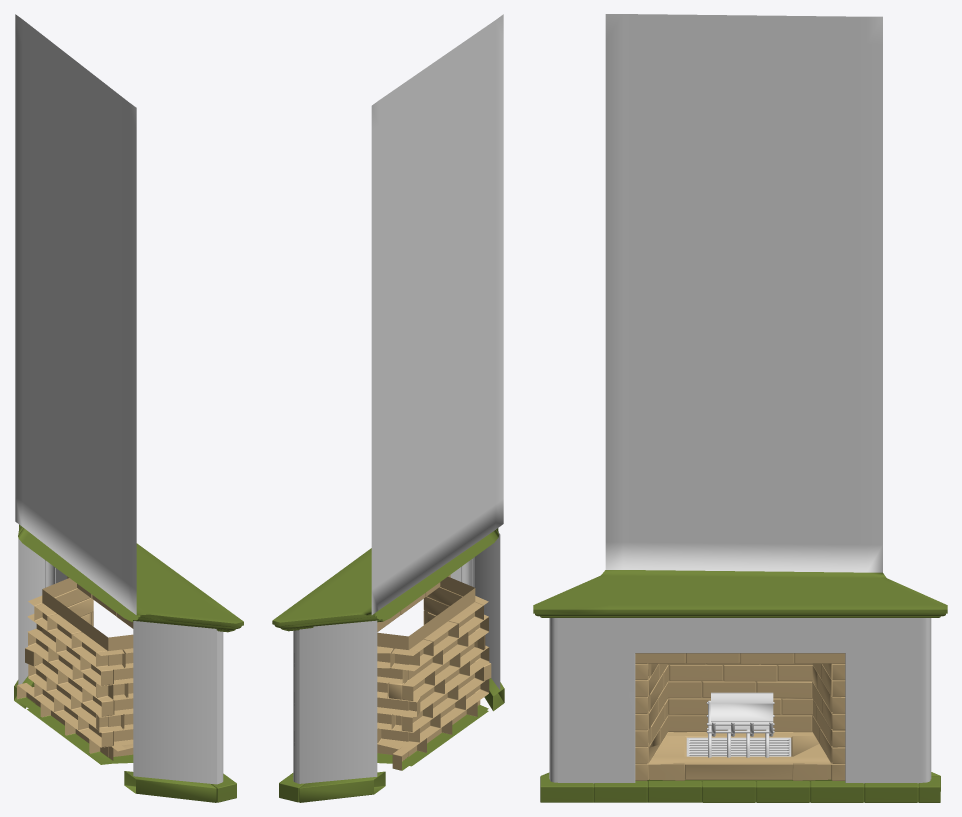
File: camino_fix2.fbx
3 views of the same model, side by side, from view 1: azimuth 30°, elevation 25°; view 2: azimuth 150°, elevation 25°; view 3: azimuth 270°, elevation 25° (orthographic). The views are drawn at different scales.
Parts seen in each view (by area): view 1: Camino.004; view 2: Camino.004; view 3: Camino.004.
Part boxes in pixels (x1=…): Camino.004: x1=14, y1=14, x2=243, y2=802; Camino.004: x1=272, y1=14, x2=504, y2=802; Camino.004: x1=533, y1=14, x2=947, y2=802.
Size of the model in its own units: 42.29 by 319 by 160.
